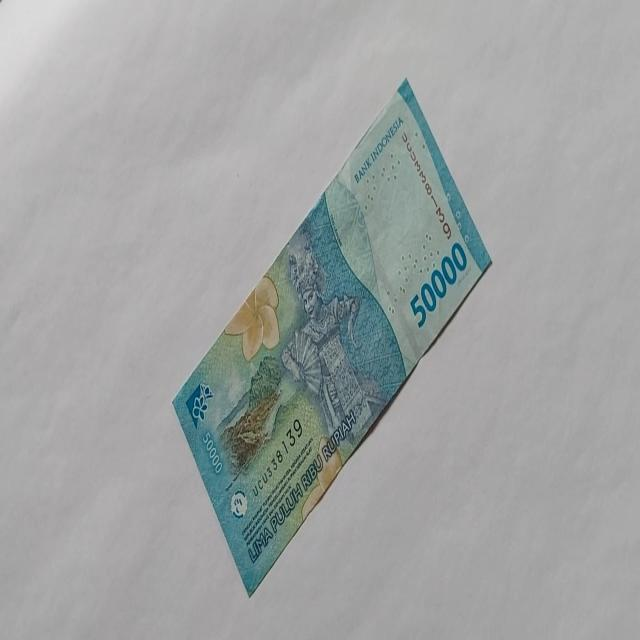lima puluh ribu rupiah: (171, 75, 494, 598), (409, 240, 467, 330), (352, 114, 404, 186)
